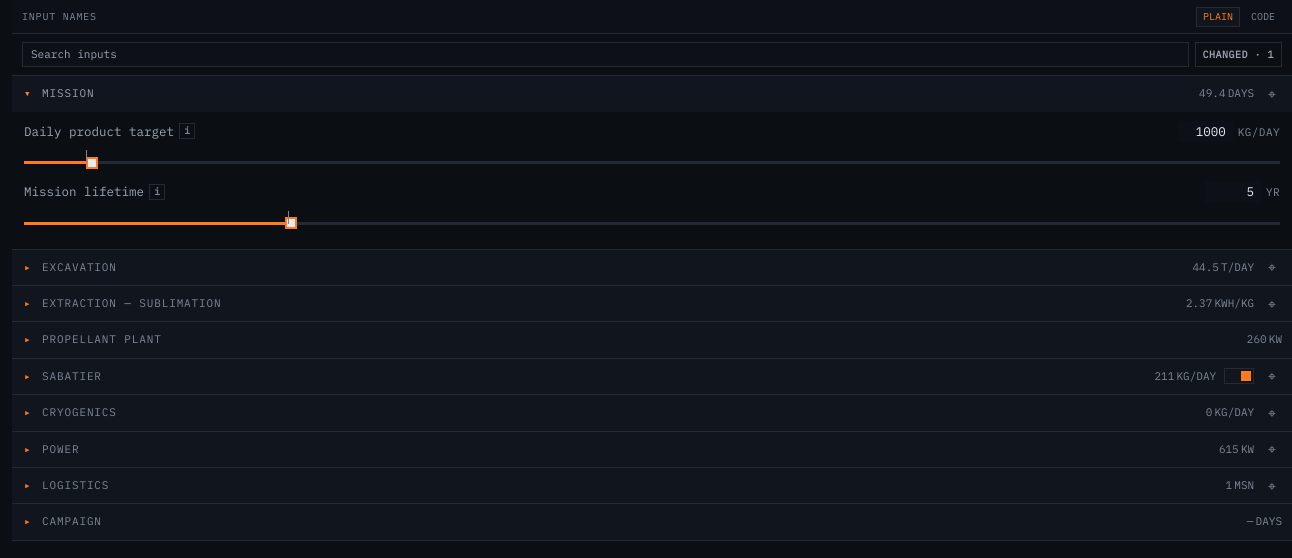
Scenario: control rail search, changed filter, and reset › shows the Sabatier switch under a filter only when the filter counts it
Type "conversion fraction" into the search field labelled "Search inputs" at (605, 55), box [22, 42, 1188, 67]
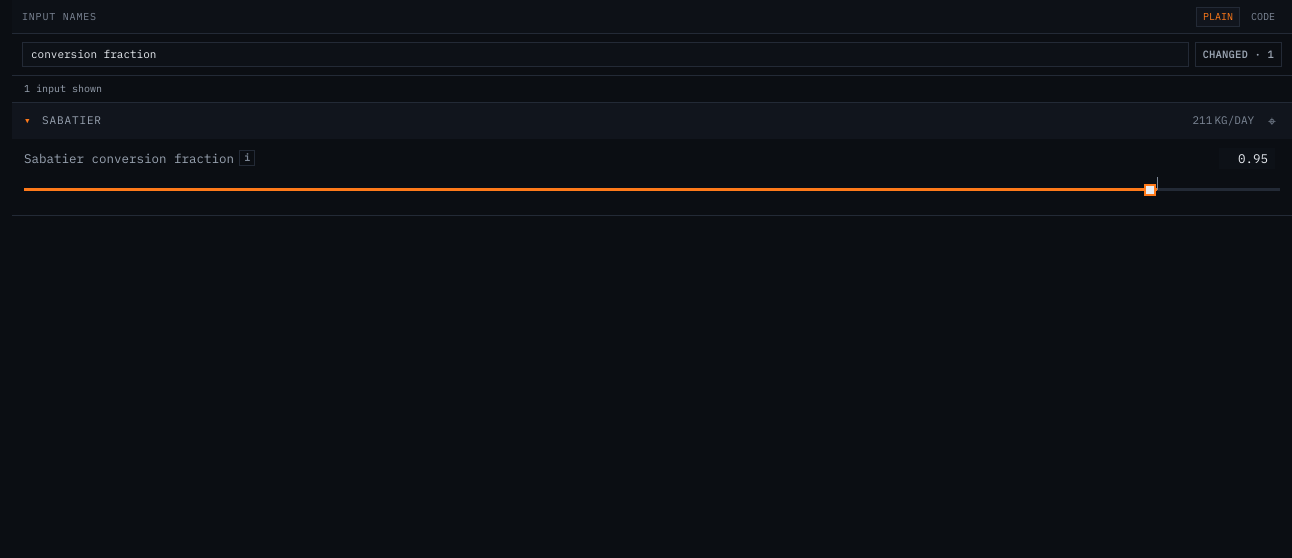
Expected: the text "1 input shown" is shown, [12, 76, 1291, 103]
Replace the text in the search field named "Search inputs" with "enable sabatier" at (605, 55), box [22, 42, 1188, 67]
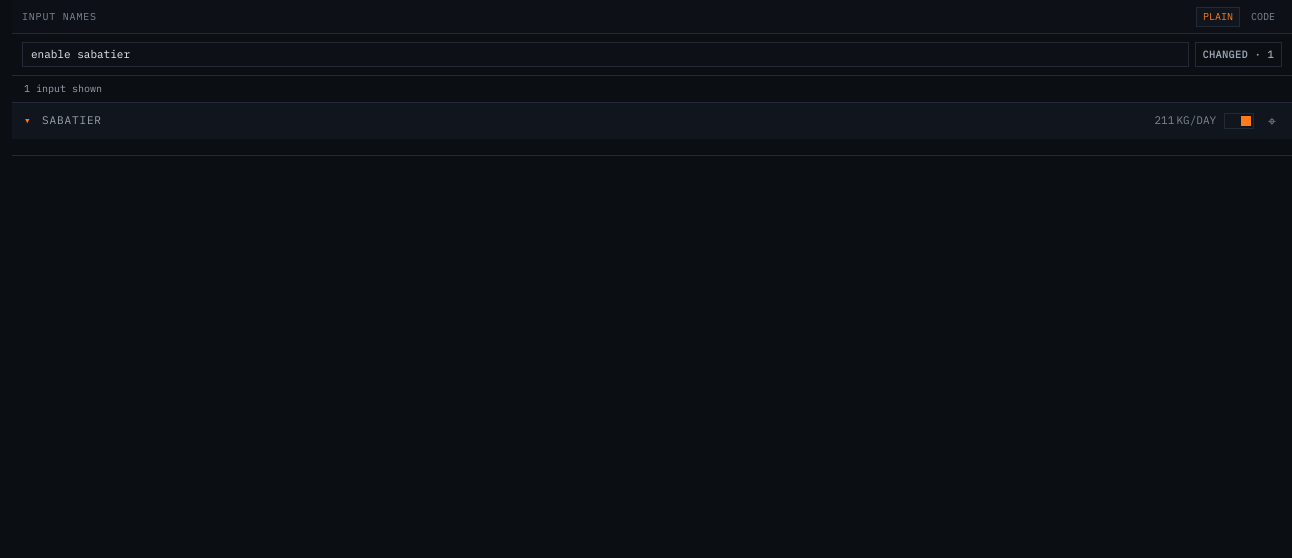
Expected: the text "1 input shown" is shown, [12, 76, 1291, 103]
Expected: the switch named "Enable Sabatier loop" is shown, [1224, 113, 1254, 129]
Replace the text in the search field named "Search inputs" with "conversion fraction" at (605, 55), box [22, 42, 1188, 67]
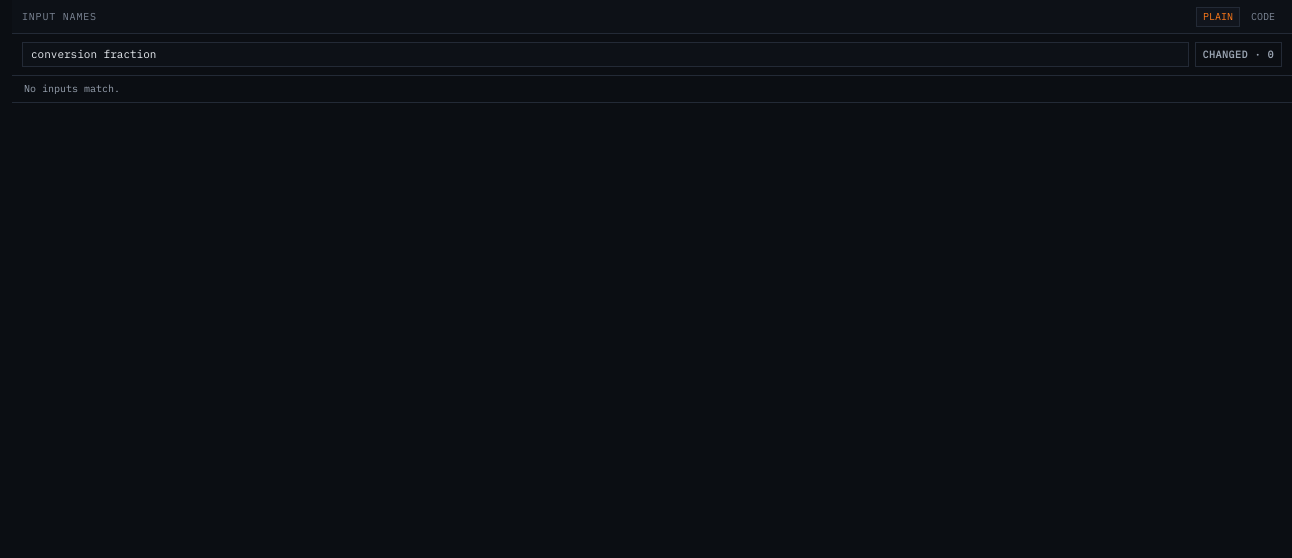
Expected: the text "No inputs match." is shown, [12, 76, 1291, 103]
